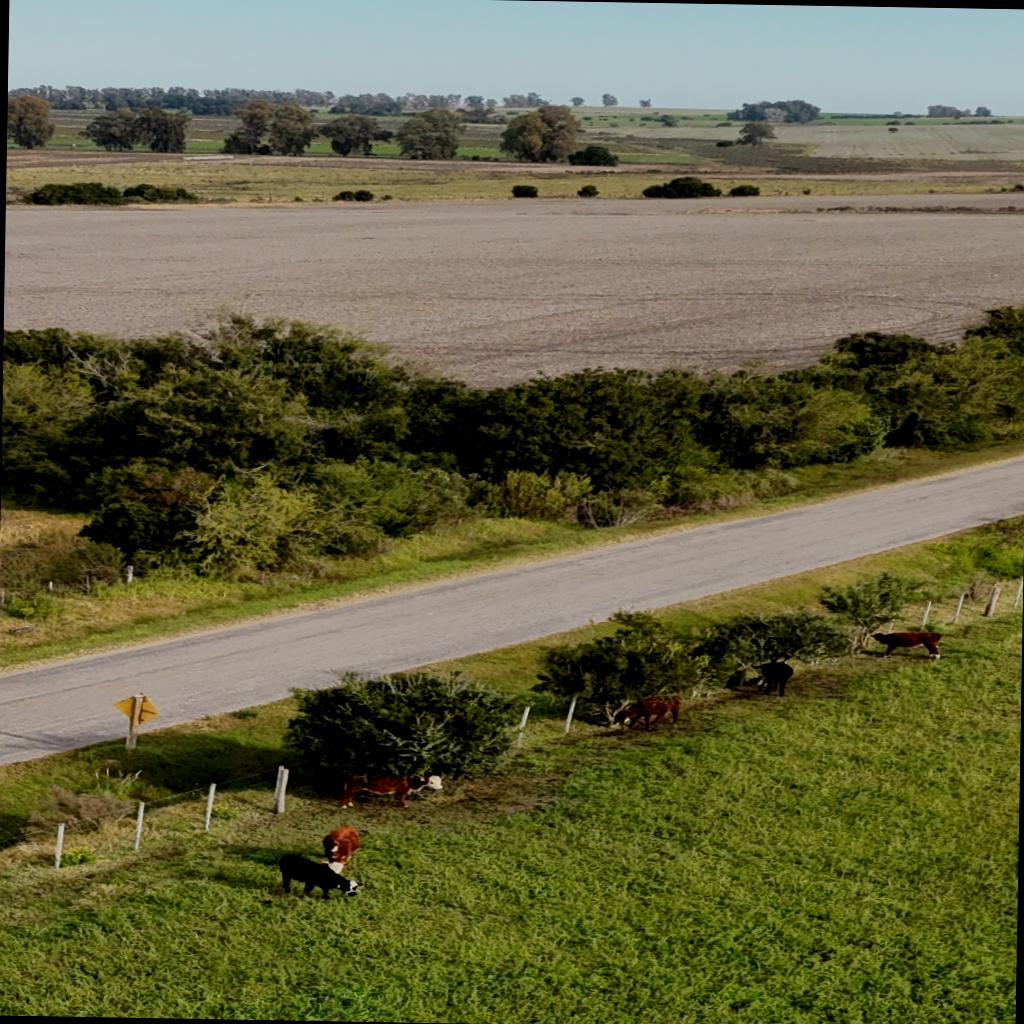cow: (334, 771, 444, 809), (268, 854, 364, 894), (606, 696, 684, 732), (869, 630, 942, 660), (320, 822, 362, 874), (752, 660, 793, 696), (928, 650, 942, 662)
